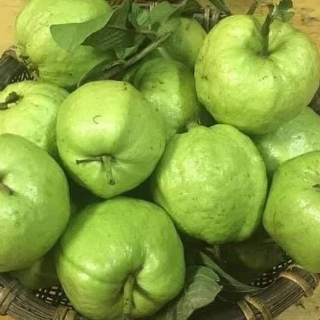oi: (55, 198, 186, 320), (195, 15, 320, 132), (152, 123, 268, 245), (57, 80, 166, 199)
